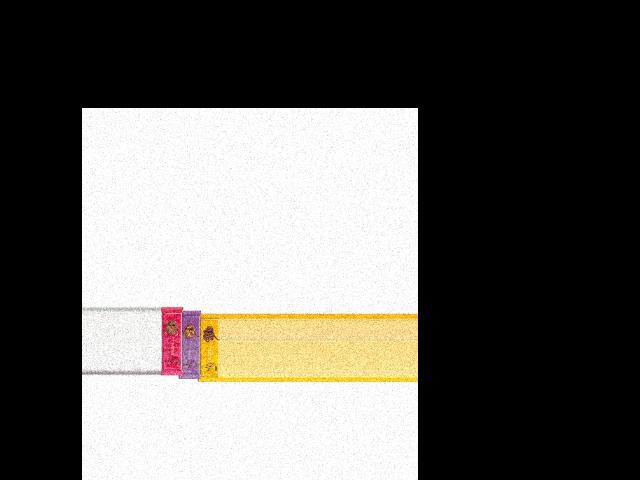chocolate: (160, 302, 182, 378)
